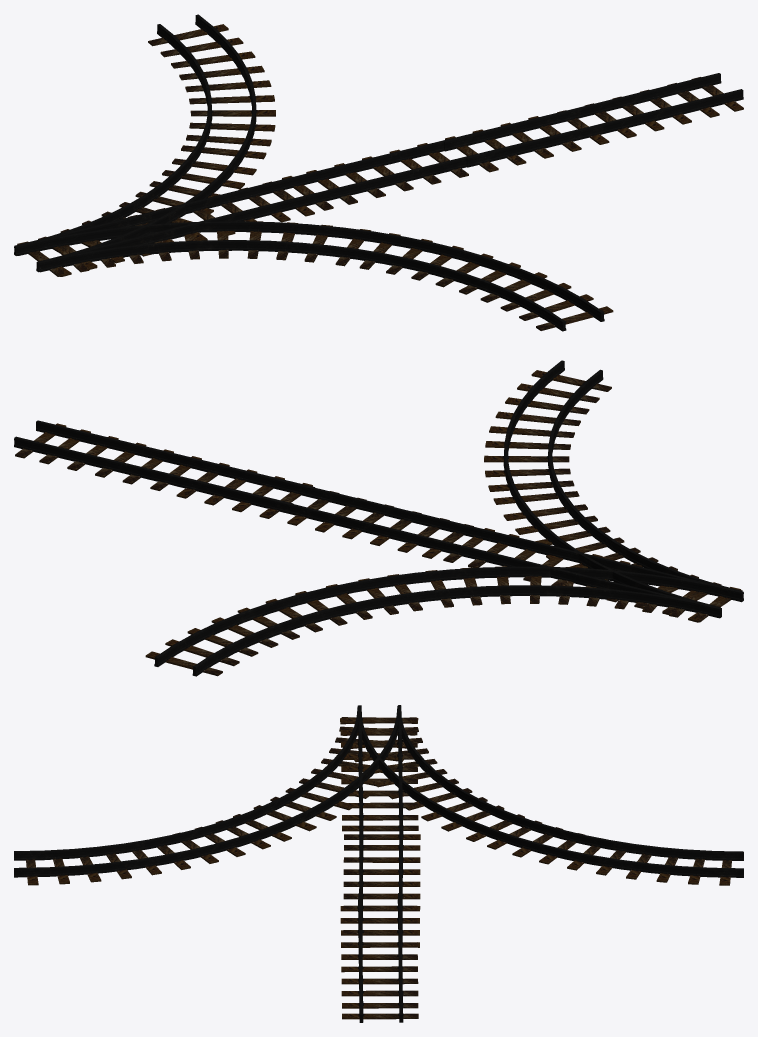
File: track8.gltf
3 renders of one model, top to bottom at view 1: azimuth 30°, elevation 25°; view 2: azimuth 150°, elevation 25°; view 3: azimuth 270°, elevation 25°, orthographic. The views are drawn at different scales.
Parts seen in each view (by area): view 1: rightTrack, leftTrack, straightTrack3, straightTrack2, straightTrack1; view 2: leftTrack, rightTrack, straightTrack2, straightTrack3, straightTrack1; view 3: rightTrack, leftTrack, straightTrack2, straightTrack3, straightTrack1.
Boxes of the visible parts, <box> form: rightTrack: <box>17,221,613,331</box>; leftTrack: <box>17,14,275,276</box>; straightTrack3: <box>444,73,743,172</box>; straightTrack2: <box>282,112,582,210</box>; straightTrack1: <box>14,177,314,276</box>; leftTrack: <box>145,566,740,676</box>; rightTrack: <box>484,360,742,622</box>; straightTrack2: <box>174,459,473,558</box>; straightTrack3: <box>14,420,314,517</box>; straightTrack1: <box>442,525,743,622</box>; rightTrack: <box>14,705,418,885</box>; leftTrack: <box>340,706,743,885</box>; straightTrack2: <box>343,823,420,950</box>; straightTrack3: <box>340,893,418,1022</box>; straightTrack1: <box>340,705,418,833</box>.
Size of the model in its own units: 382 by 5.12 by 381.
Materials: 1 (1 with a texture image).
